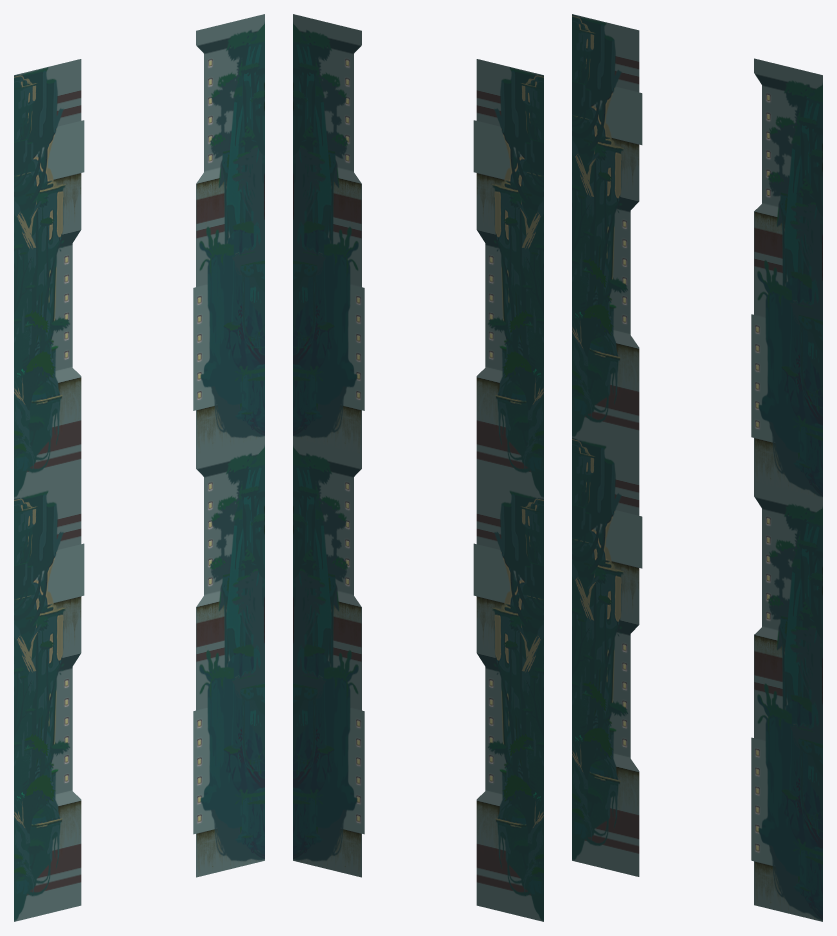
The model's file is Selva_Layer_02.FBX.
The picture shows the model from 3 angles, left to right: view 1: azimuth 30°, elevation 25°; view 2: azimuth 150°, elevation 25°; view 3: azimuth 330°, elevation 25°; orthographic projection.
Visible parts, largest first — view 1: Selva_Layer_02; view 2: Selva_Layer_02; view 3: Selva_Layer_02.
Boxes of the visible parts, left/top/right/bottom form: Selva_Layer_02: left=14, top=14, right=264, bottom=921; Selva_Layer_02: left=293, top=14, right=543, bottom=921; Selva_Layer_02: left=572, top=14, right=822, bottom=921.
Size of the model in its own units: 3722 by 12000 by 0.000977.
